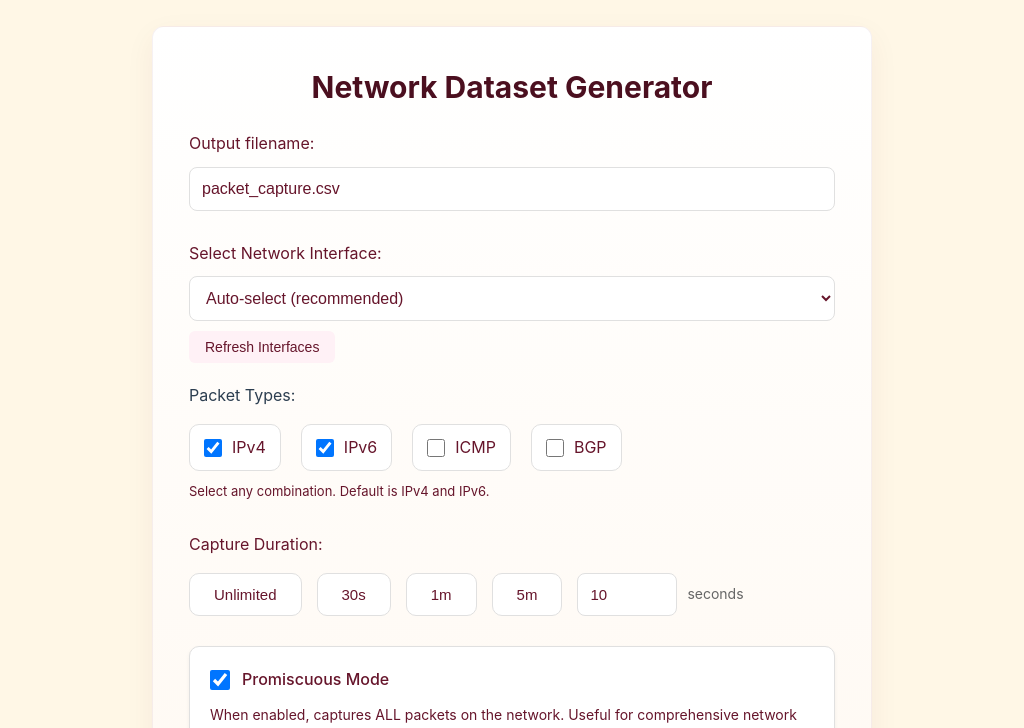
Home decisions › unchecking all filters shows validation error
// Uncheck IPv4 and IPv6
What coordinates should you click on to do the following:
click the checkbox labelled "IPv4"
I would click on:
 (213, 448)
Its box is left=204, top=439, right=222, bottom=457.
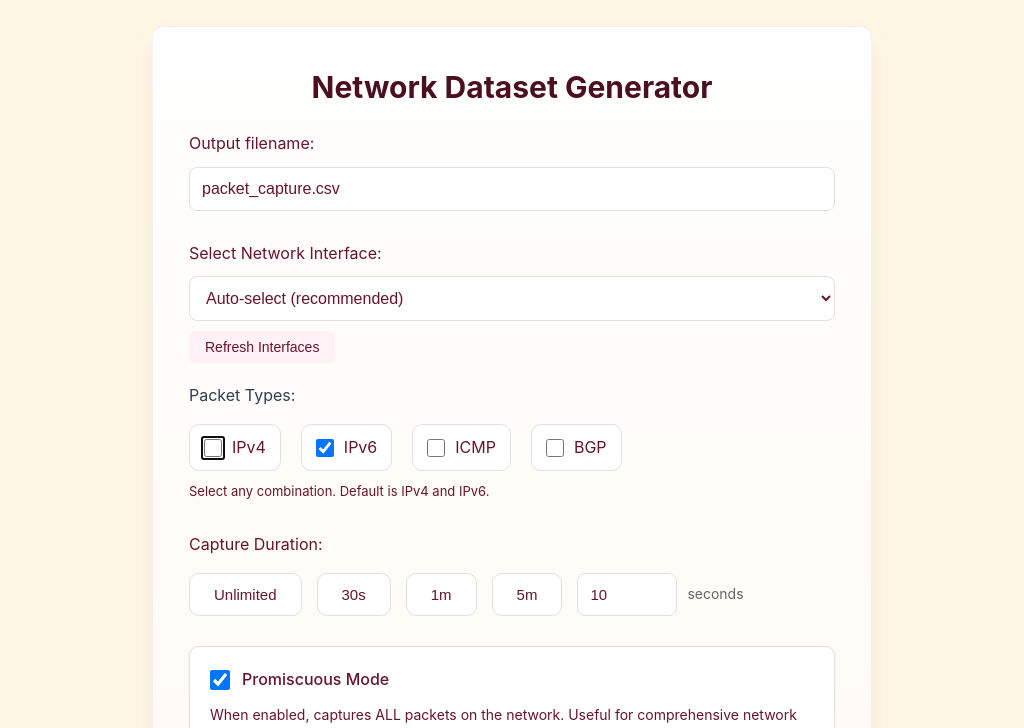
What coordinates should you click on to do the following:
click the checkbox labelled "IPv6"
I would click on:
 (325, 448)
Its box is left=316, top=439, right=334, bottom=457.
(page scrolled)
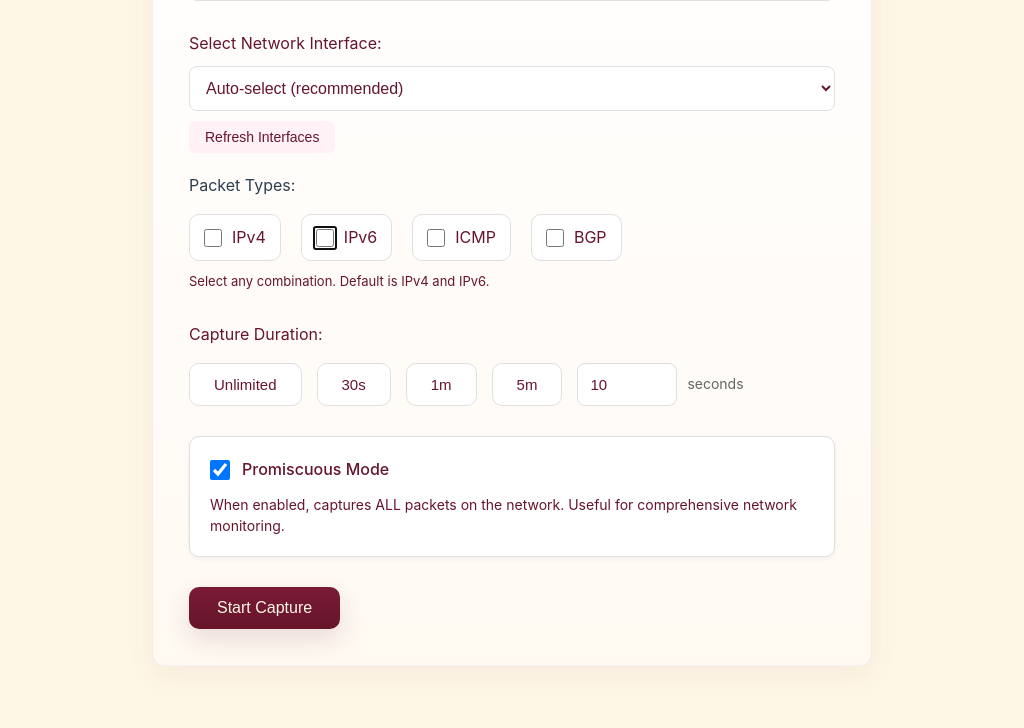
What coordinates should you click on to do the following:
click the button "Start Capture"
I would click on:
 (265, 608)
Its box is left=189, top=587, right=340, bottom=629.
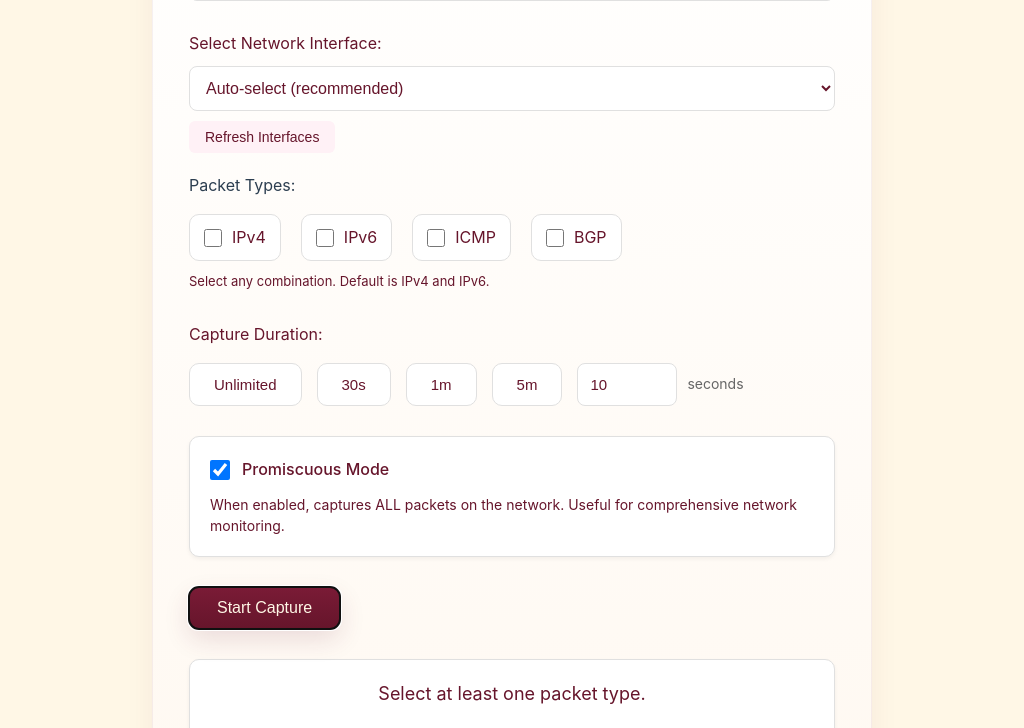
expect the text "Select at least one packet type." is shown: met, box left=378, top=683, right=646, bottom=704
